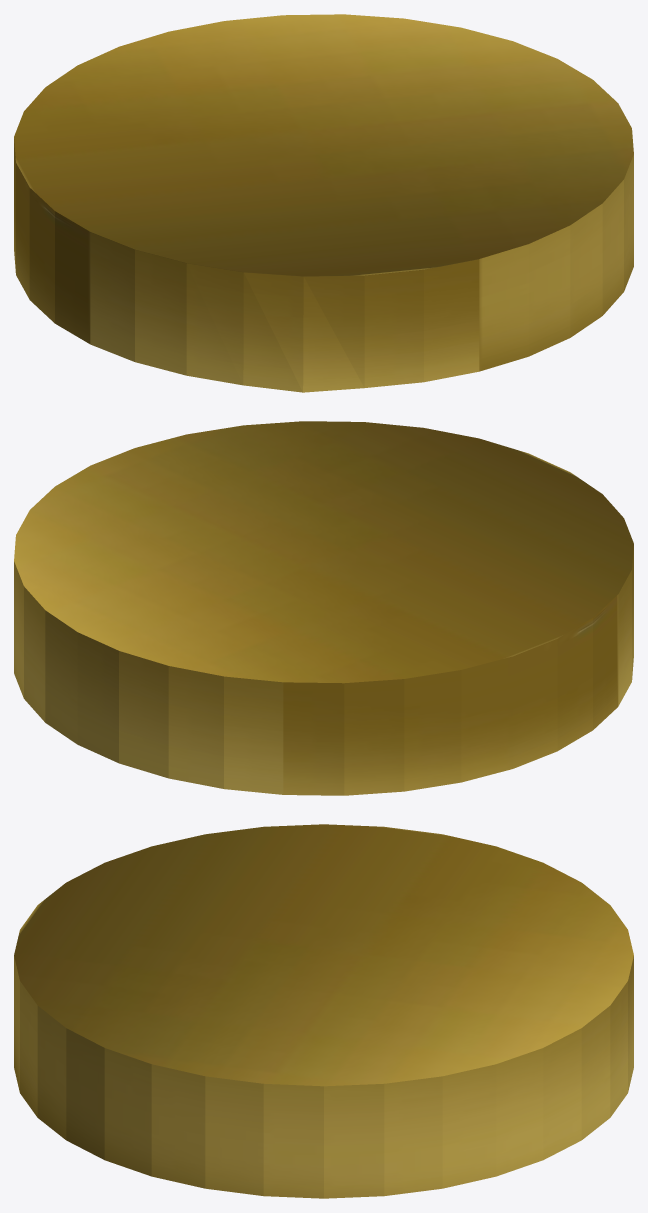
The model's file is Coin fewer triangles.obj.
3 views of the same model, one above another, from view 1: azimuth 30°, elevation 25°; view 2: azimuth 150°, elevation 25°; view 3: azimuth 270°, elevation 25° (orthographic).
Visible parts, largest first — view 1: Cylinder; view 2: Cylinder; view 3: Cylinder.
Boxes of the visible parts, x1=… form: Cylinder: x1=14, y1=14, x2=633, y2=392; Cylinder: x1=14, y1=421, x2=633, y2=795; Cylinder: x1=14, y1=824, x2=633, y2=1198.
Bounding box in the file's own units: 2 × 0.4075 × 2.
